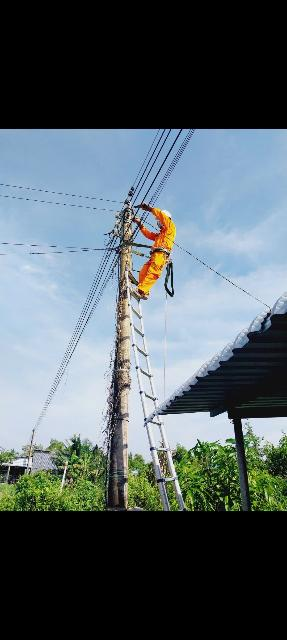gloves: (121, 213, 147, 231), (141, 197, 155, 214)
harness: (140, 238, 183, 265)
helmet: (156, 203, 174, 222)
shoes: (122, 281, 139, 300), (135, 290, 157, 299)
